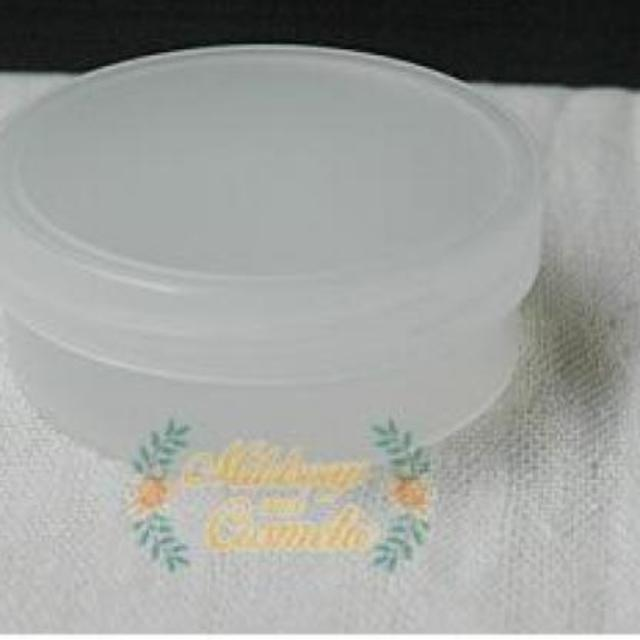plastic_box: (1, 42, 544, 480)
